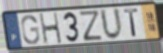3: (63, 10, 80, 44)
G: (20, 14, 41, 46)
H: (38, 11, 63, 45)
T: (123, 8, 140, 38)
U: (98, 6, 124, 42)
Z: (78, 9, 104, 43)
